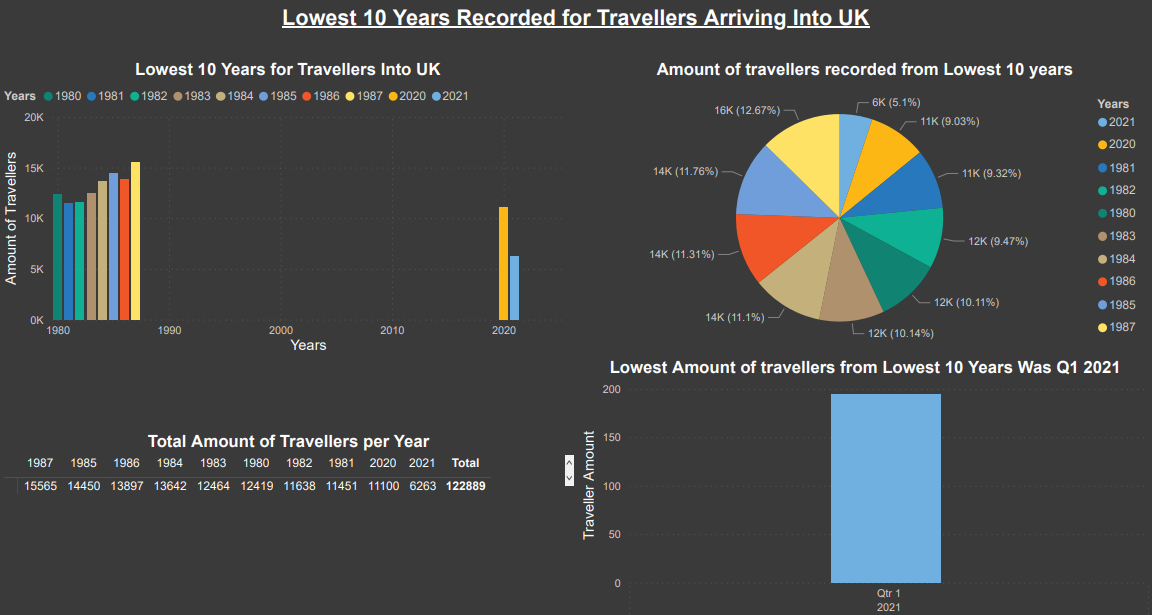

The dashboard page shown, as its layout file describes it:
{"tool":"powerbi","page":{"name":"Lowest","canvas":[1280,720],"ordinal":1},"visuals":[{"type":"pieChart","title":"Amount of travellers recorded from Lowest 10 years","fields":{"Category":["NSA Data - Bottom 10.OS Visits Dates (Year)"],"Y":["Sum(NSA Data - Bottom 10.Yearly Total - OS Visits to UK)"]},"box":[641.7,77.3,638.3,330.9],"z":0},{"type":"columnChart","title":"Lowest 10 Years for Travellers Into UK","fields":{"Category":["NSA Data - Bottom 10.OS Visits Dates (Year)"],"Y":["Sum(NSA Data - Bottom 10.Yearly Total - OS Visits to UK)"],"Series":["NSA Data - Bottom 10.OS Visits Dates (Year)"]},"box":[0,77.3,640,330.9],"z":1000},{"type":"pivotTable","title":"Total Amount of Travellers per Year","fields":{"Columns":["NSA Data - Bottom 10.OS Visits Dates (Year)"],"Values":["Sum(NSA Data - Bottom 10.Yearly Total - OS Visits to UK)"]},"box":[0,490.5,641.7,73.9],"z":2000},{"type":"columnChart","title":"Lowest Amount of travellers from Lowest 10 Years Was Q1 2021","fields":{"Category":["NSA Data - Bottom 10.UK Visits Dates (Month).Variation.Date Hierarchy.Year","NSA Data - Bottom 10.UK Visits Dates (Month).Variation.Date Hierarchy.Quarter"],"Y":["Sum(NSA Data - Bottom 10.Quarterly Total - OS Visits to UK)"]},"box":[641,408.8,639,310.9],"z":3000},{"type":"textbox","box":[0,11.8,1280,42],"z":3001}]}

Visuals, with their boxes on the page's 1280x720 design canvas (x1, y1, x2, y2). These are canvas units, not pixel positions in the 1152x615 screenshot, which may show the page scaled, cropped or inside an application window:
"Amount of travellers recorded from Lowest 10 years" pieChart: [642, 77, 1280, 408]
"Lowest 10 Years for Travellers Into UK" columnChart: [0, 77, 640, 408]
"Total Amount of Travellers per Year" pivotTable: [0, 490, 642, 564]
"Lowest Amount of travellers from Lowest 10 Years Was Q1 2021" columnChart: [641, 409, 1280, 720]
textbox: [0, 12, 1280, 54]
